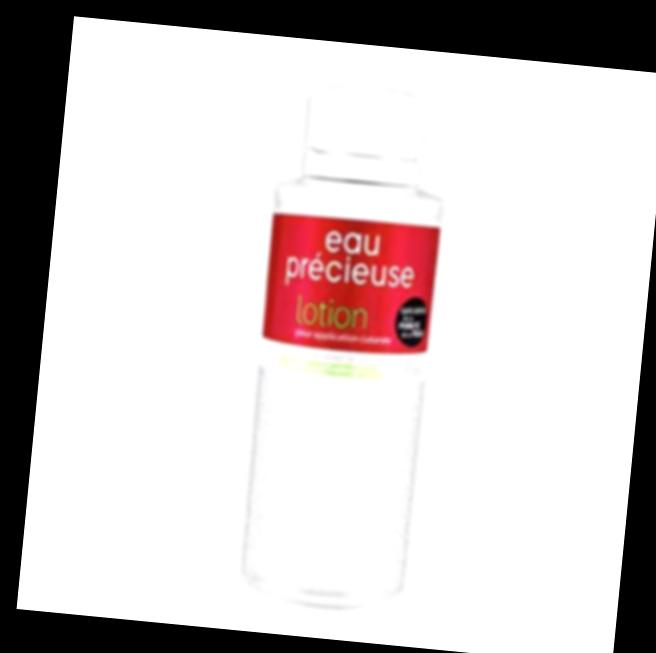cosmetic: (236, 80, 452, 593)
